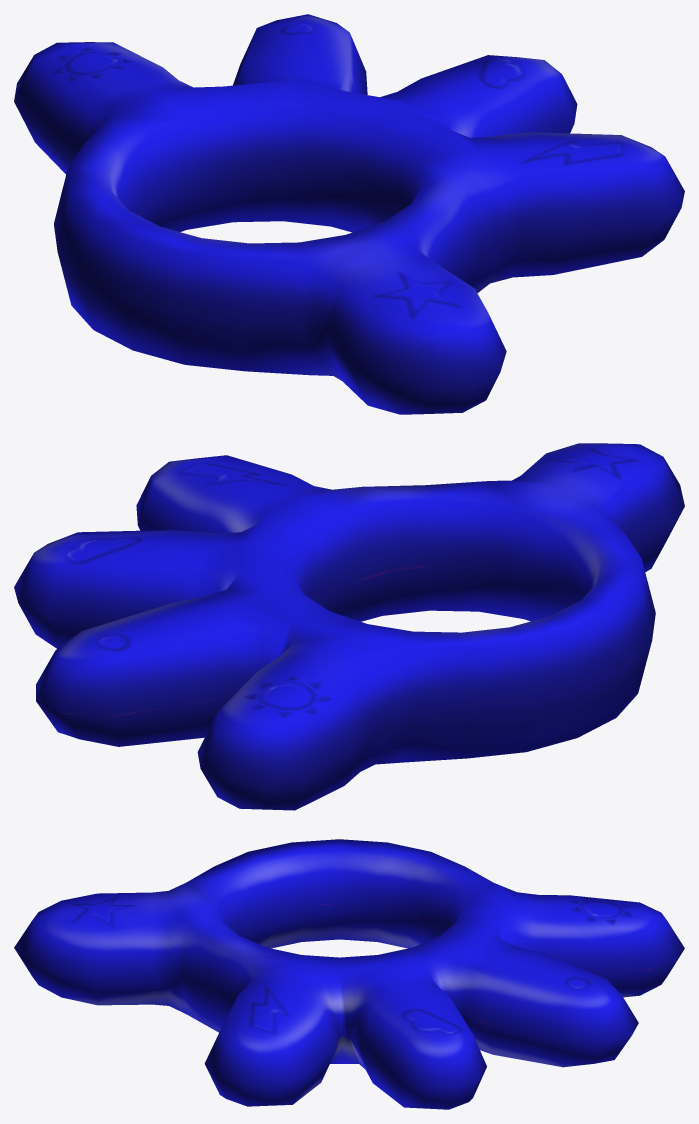
The model's file is teether.fbx.
3 renders of one model, top to bottom at view 1: azimuth 30°, elevation 25°; view 2: azimuth 150°, elevation 25°; view 3: azimuth 270°, elevation 25°, orthographic. The views are drawn at different scales.
Parts seen in each view (by area): view 1: teether; view 2: teether; view 3: teether.
Part boxes in pixels (x1,y1,x2,y2): teether: (14,14,684,414); teether: (14,443,684,810); teether: (14,839,684,1109).
Bounding box in the file's own units: 2.99 × 0.6488 × 4.04.
1 material, 1 textured.
